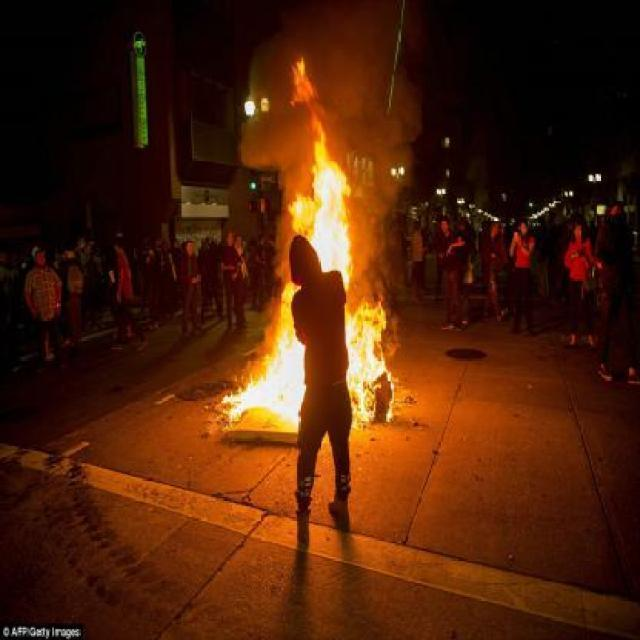fire: (289, 124, 355, 233), (349, 301, 398, 421), (218, 377, 298, 426), (266, 286, 293, 370)
